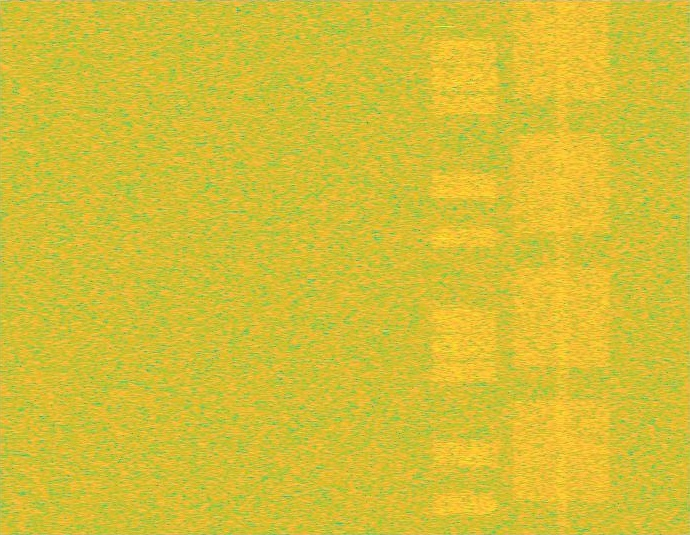5G: (510, 0, 614, 534)
DSSS: (555, 0, 569, 534)
LTE: (430, 0, 499, 534)
Radar: (438, 0, 452, 534)
